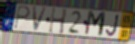2: (66, 11, 83, 35)
H: (48, 6, 69, 36)
J: (105, 14, 120, 38)
M: (84, 10, 108, 38)
P: (13, 5, 31, 30)
V: (32, 7, 48, 33)
